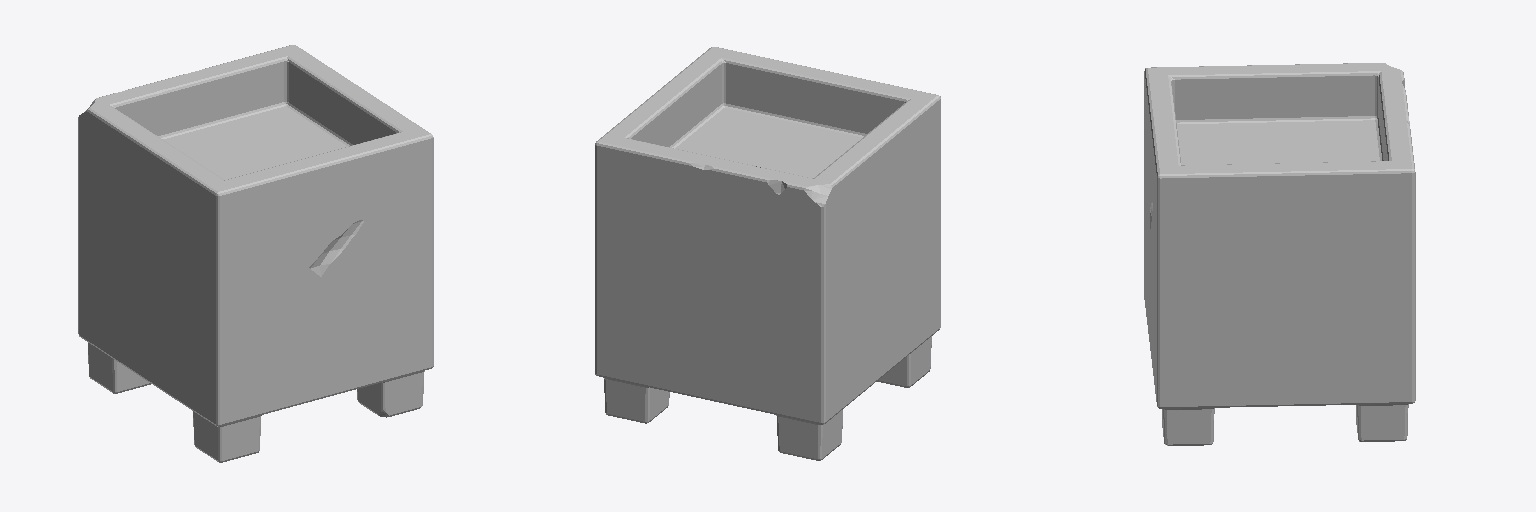
Rendered from platn_vase.obj.
The picture shows the model from 3 angles: view 1: azimuth 30°, elevation 25°; view 2: azimuth 150°, elevation 25°; view 3: azimuth 270°, elevation 25°; orthographic projection.
Parts seen in each view (by area): view 1: Cube.037_dmg; view 2: Cube.037_dmg; view 3: Cube.037_dmg.
Part boxes in pixels (x1,y1,x2,y2): Cube.037_dmg: (78, 45, 433, 462); Cube.037_dmg: (595, 47, 940, 460); Cube.037_dmg: (1144, 63, 1415, 445).
Bounding box in the file's own units: 0.7709 × 0.8642 × 0.7709.